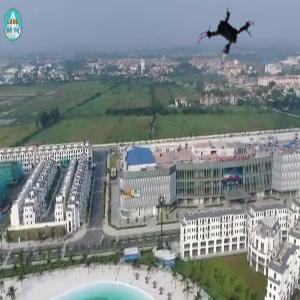drone: (197, 2, 263, 68)
